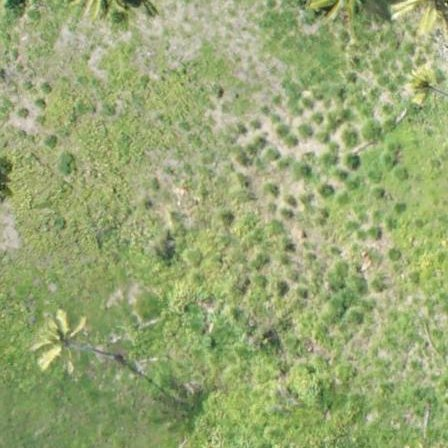palm_tree: (32, 311, 86, 368), (401, 63, 441, 103)
